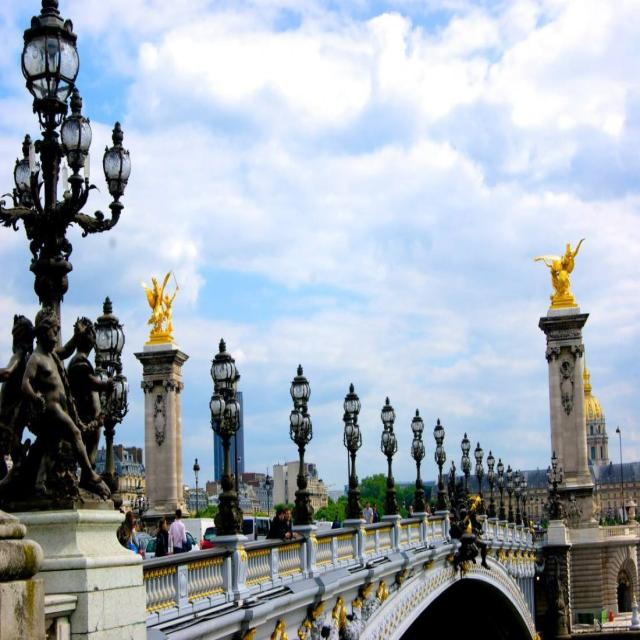body: (0, 307, 117, 513), (447, 482, 493, 572), (557, 359, 574, 417), (167, 508, 188, 554), (265, 506, 291, 541), (154, 517, 169, 558), (124, 510, 140, 548), (282, 506, 298, 540), (331, 514, 342, 558), (372, 502, 380, 552), (362, 499, 375, 525), (424, 503, 432, 534), (608, 607, 615, 623), (408, 504, 414, 518), (433, 503, 438, 518), (535, 518, 541, 530)
